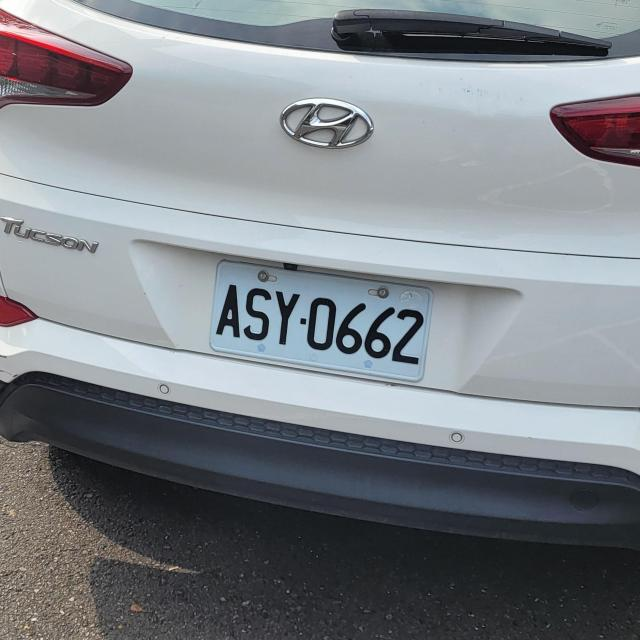W: (204, 259, 433, 382)
